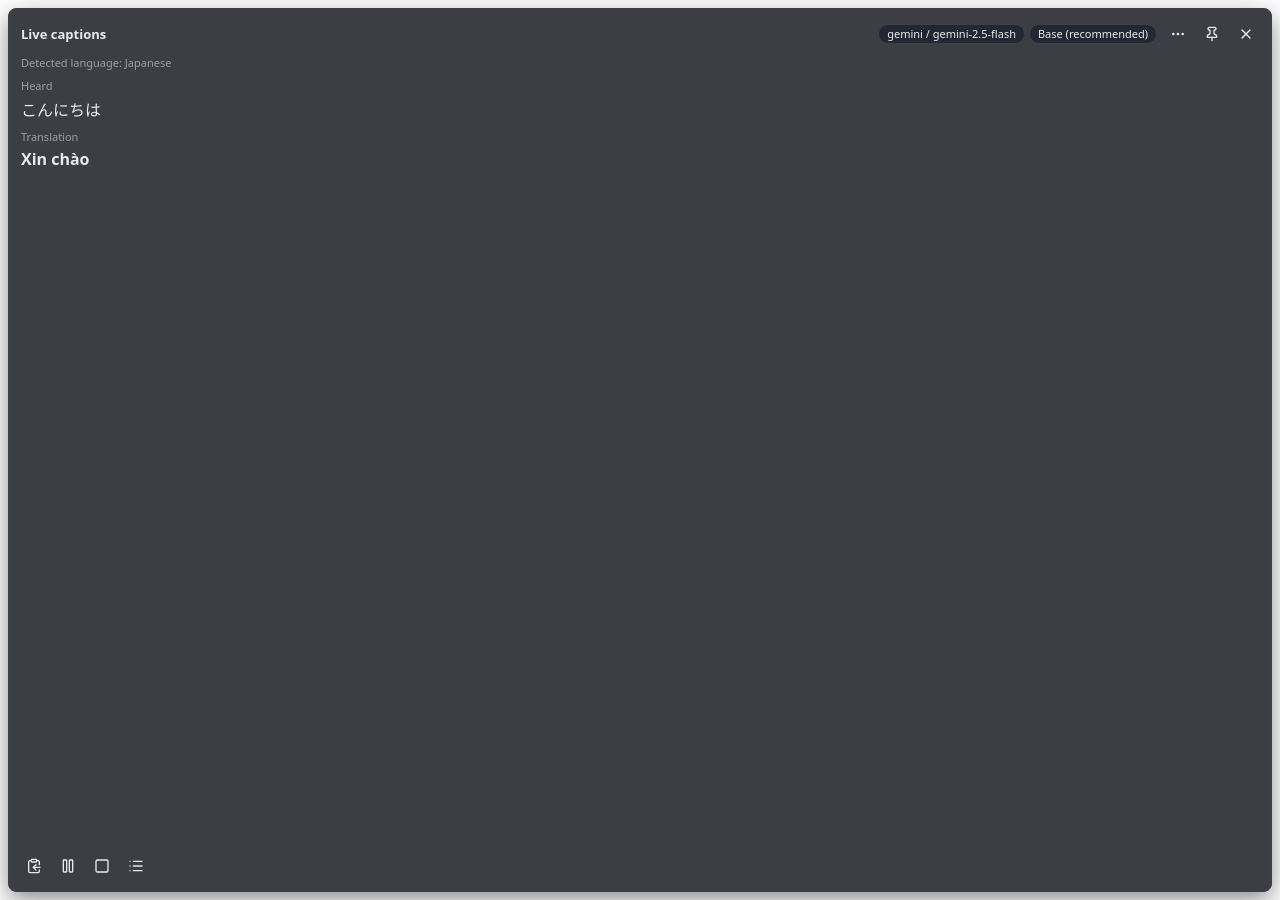
Scenario: CaptionOverlayView - pause / resume / stop (item 2, owner complaint: no way to pause or stop) › stops without closing the overlay, keeping the transcript visible
Click the button named "Stop" at (102, 866), box [89,853,115,879]
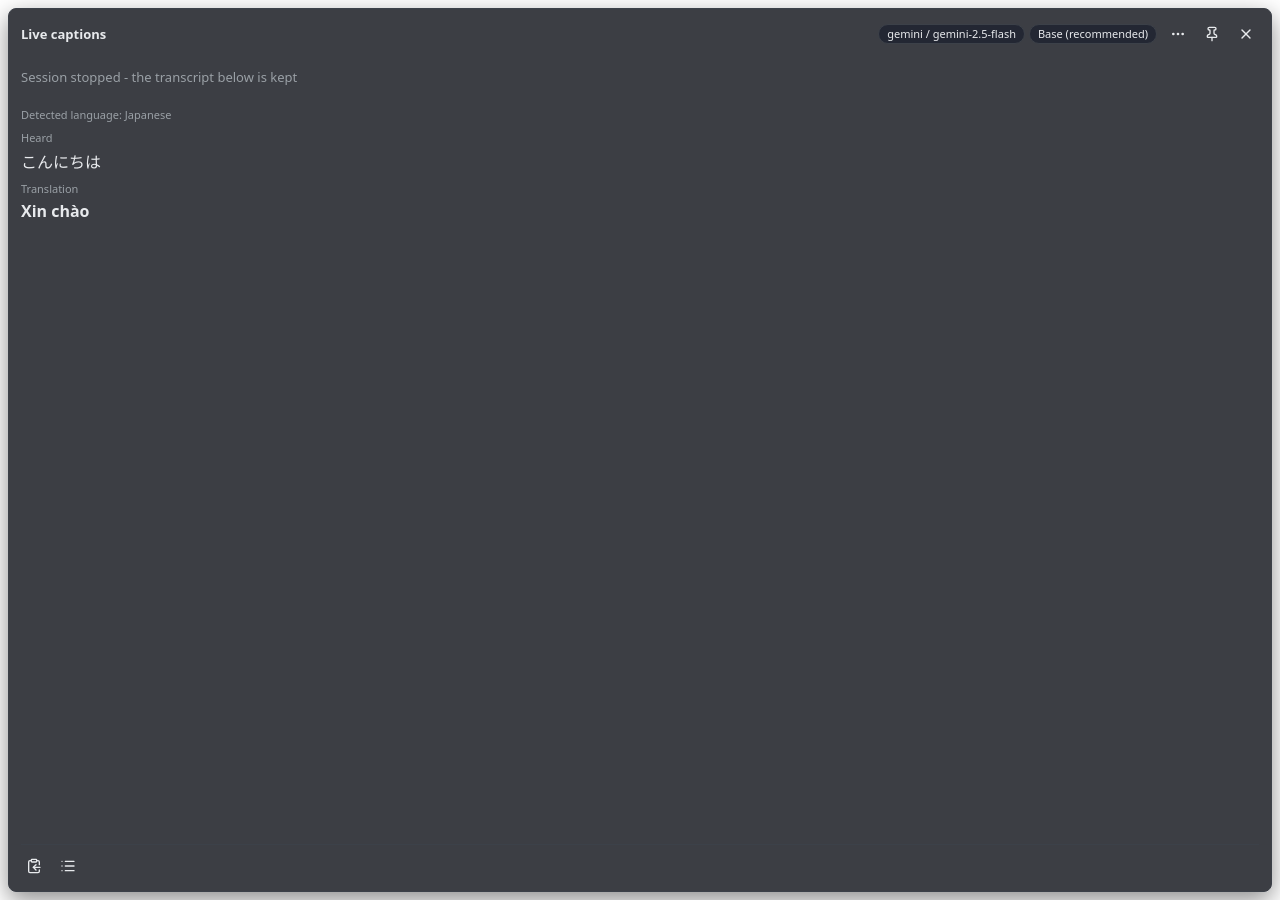
Expected: the text "Xin chào" is shown, [21,200,90,222]
Expected: the text "Session stopped - the transcript below is kept" is shown, [21,68,297,86]
Expected: the button "Pause" is gone
